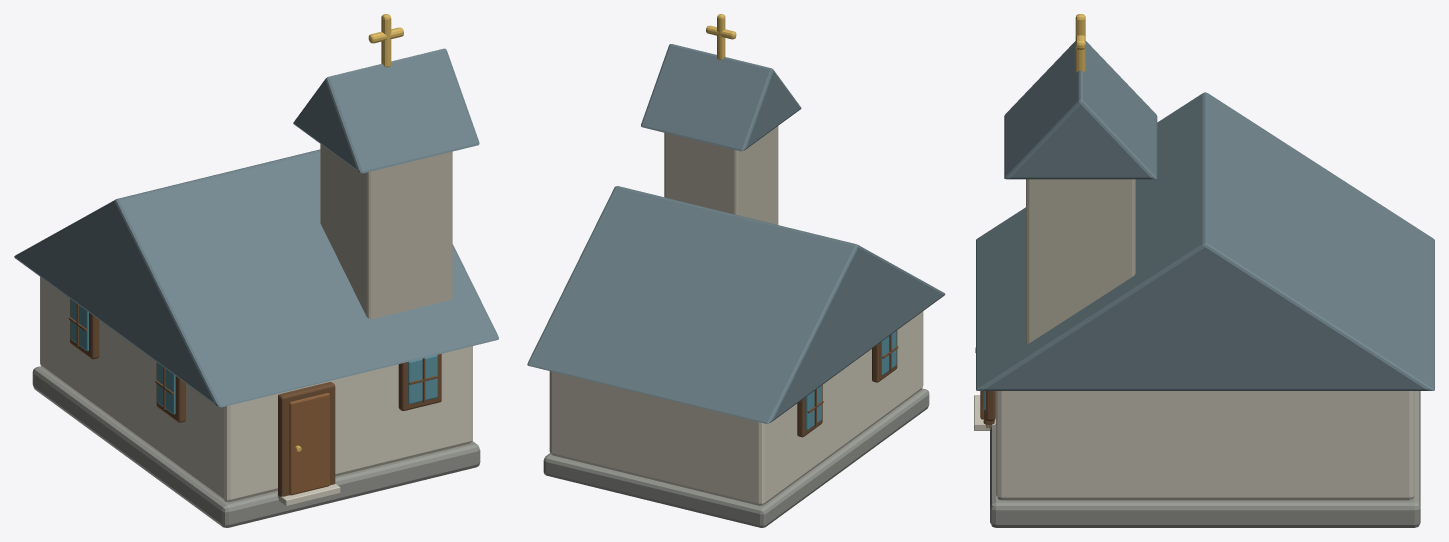
File: temperate-chapel-0.glb
The picture shows the model from 3 angles, left to right: view 1: azimuth 30°, elevation 25°; view 2: azimuth 150°, elevation 25°; view 3: azimuth 270°, elevation 25°; orthographic projection. The views are drawn at different scales.
Parts seen in each view (by area): view 1: Blue slate, Cut limestone, Warm civic stone, Foundation stone, Dark beams, Door oak, Blue glass, Warm brass; view 2: Blue slate, Cut limestone, Foundation stone, Warm civic stone, Dark beams, Blue glass, Warm brass; view 3: Blue slate, Cut limestone, Warm civic stone, Foundation stone, Warm brass.
Part boxes in pixels (<box>): Blue slate: <box>14,48,498,407</box>; Cut limestone: <box>40,277,472,506</box>; Warm civic stone: <box>320,144,452,319</box>; Foundation stone: <box>32,366,480,527</box>; Dark beams: <box>68,299,441,498</box>; Door oak: <box>289,393,329,495</box>; Blue glass: <box>70,299,437,414</box>; Warm brass: <box>295,14,403,451</box>; Blue slate: <box>527,44,945,423</box>; Cut limestone: <box>549,311,923,505</box>; Foundation stone: <box>543,388,929,527</box>; Warm civic stone: <box>664,126,778,224</box>; Dark beams: <box>797,330,898,437</box>; Blue glass: <box>806,331,896,430</box>; Warm brass: <box>706,14,736,59</box>; Blue slate: <box>976,41,1434,390</box>; Cut limestone: <box>974,391,1414,500</box>; Warm civic stone: <box>1026,179,1135,344</box>; Foundation stone: <box>990,391,1420,527</box>; Warm brass: <box>975,14,1085,352</box>.
Size of the model in its own units: 3.64 by 5.38 by 4.62.
